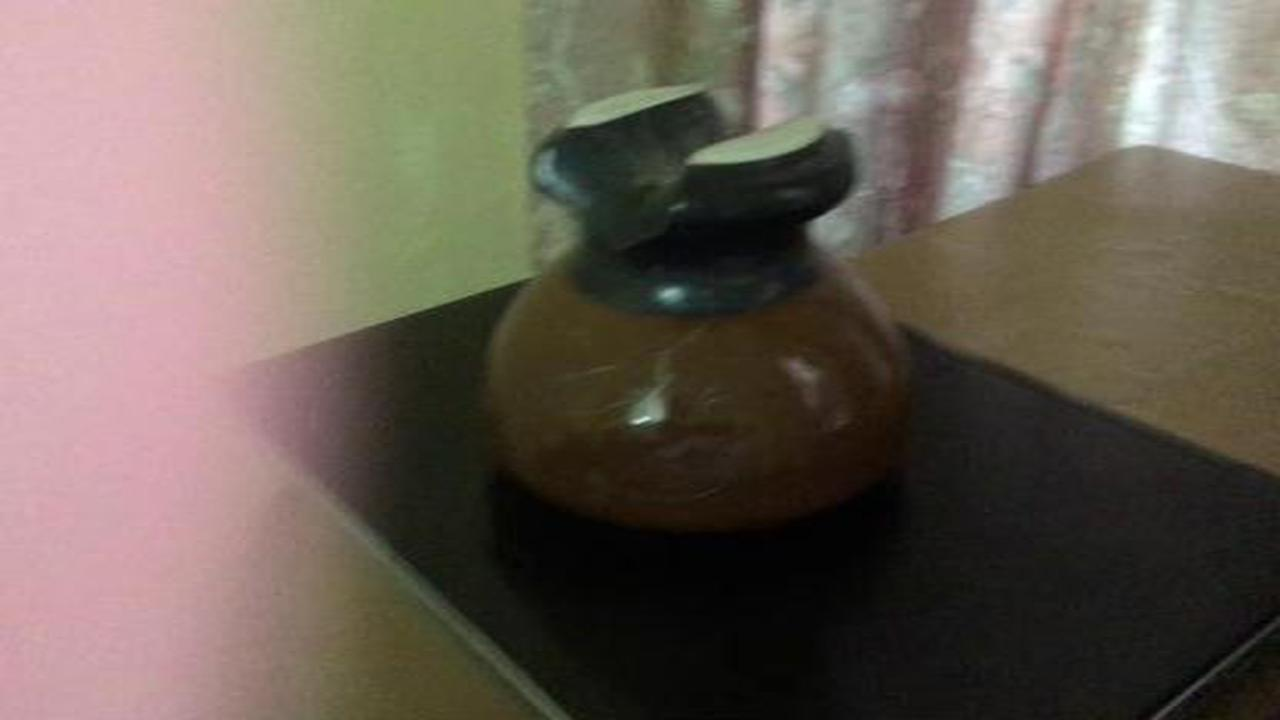insulator_pin: (464, 69, 933, 554)
